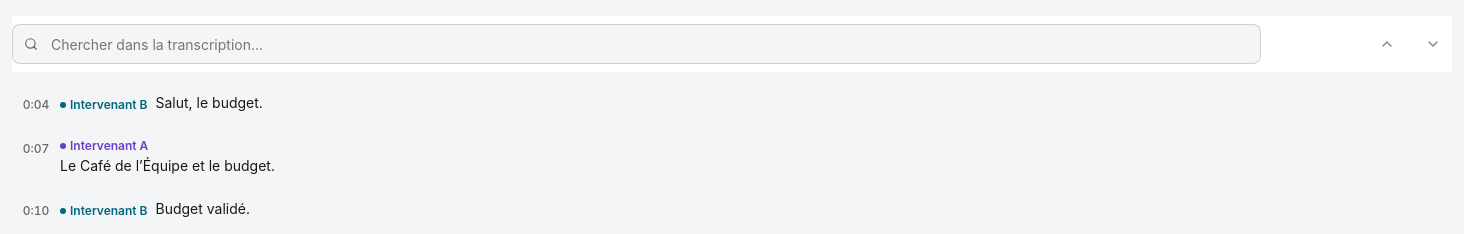
keeps every passage and highlights the matches
The width and height of the screenshot is (1464, 234).
Type "salut" into the search field labelled "Chercher dans la transcription" at (637, 44), box x1=12 y1=24 x2=1261 y2=64
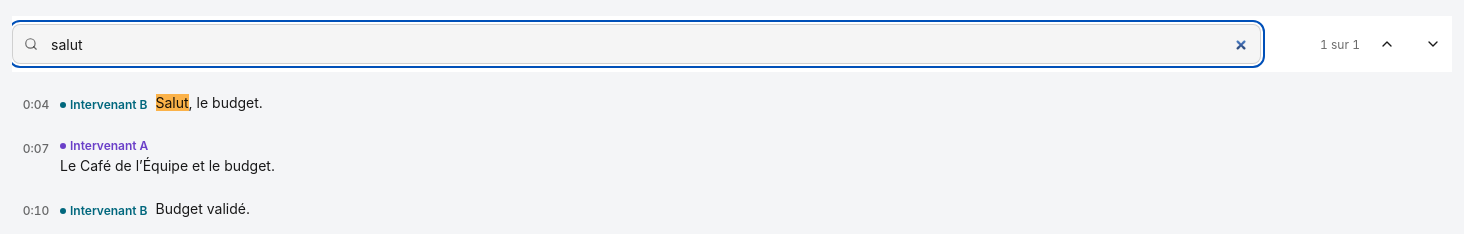
Expected: the text "Bonjour." is shown, x1=156 y1=48 x2=211 y2=70
Expected: the text "1 sur 1" is shown, x1=1320 y1=36 x2=1360 y2=52
